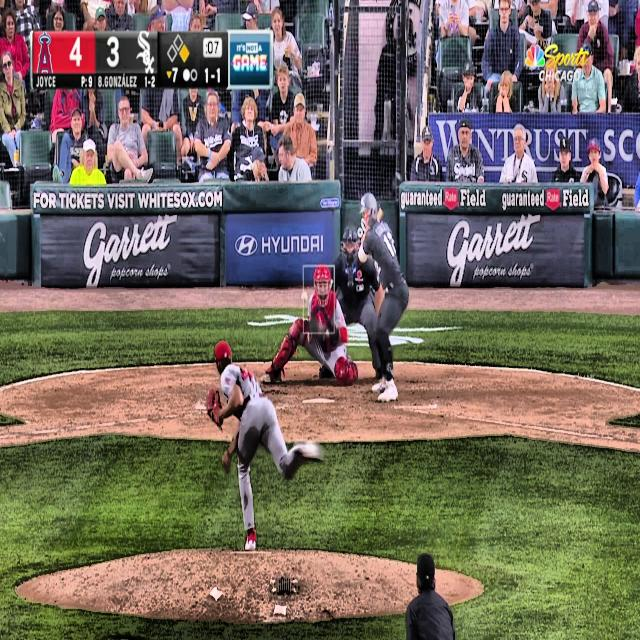baseball: (300, 290, 308, 304)
